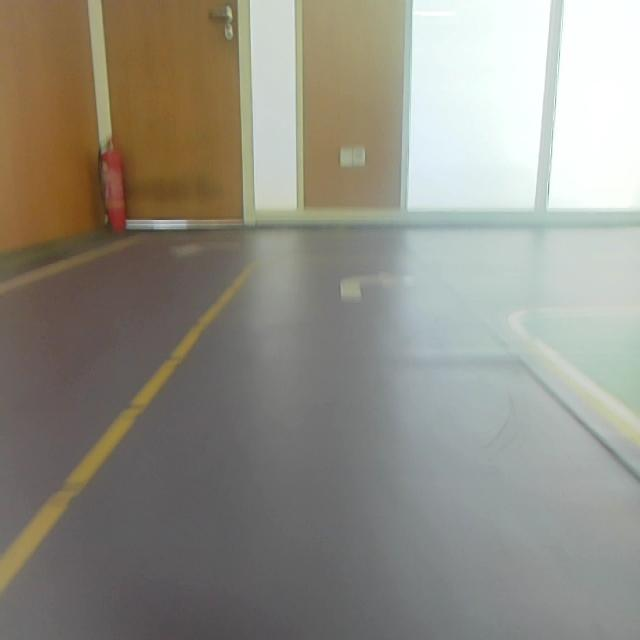left_lane: (0, 263, 254, 598)
right_lane: (515, 327, 640, 451)
